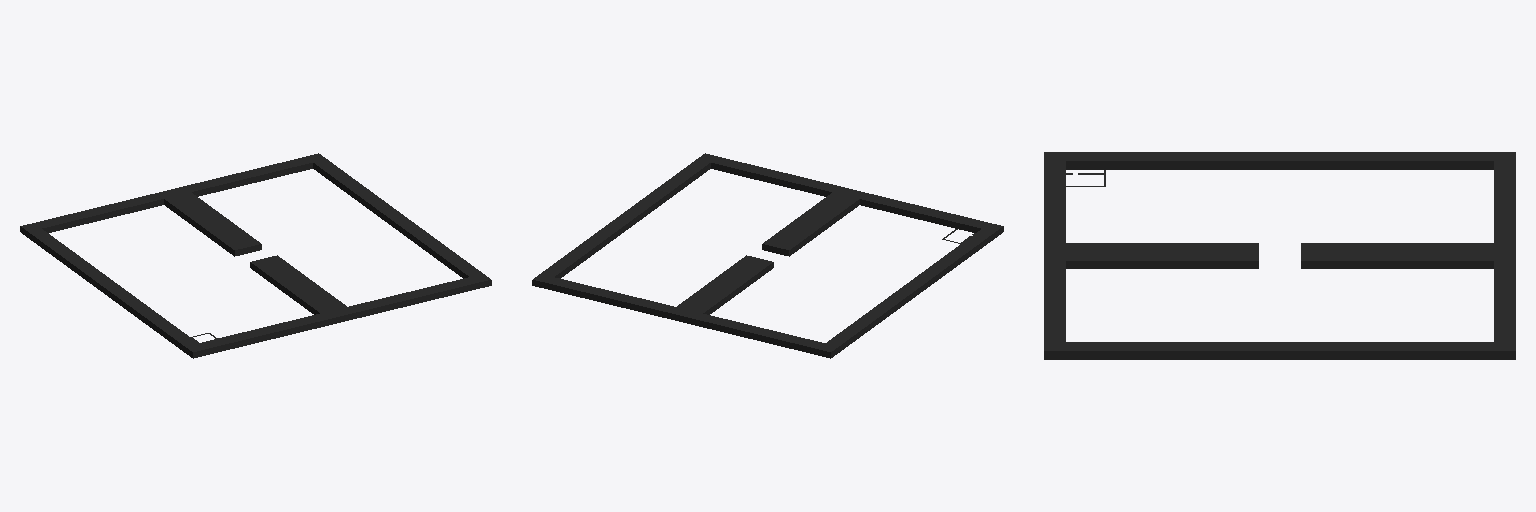
robot.urdf — Room48:
<robot name="Room48">
    <link name="_name">
        <visual> 
            <origin rpy="0.0 0.0 0.0" xyz="-0.5015630672286577 -0.49859191714983775 -0.010000000000000004" />
                <geometry>
                    <mesh filename="Room48/Room48.obj" scale="1 1 0.1" />
                </geometry>

            <material name="black">
                <color rgba="0.2 0.2 0.2 0.95" />
            </material>
        </visual>

       <collision concave="yes" name="collision_0">
            <origin rpy="0.0 0.0 0.0" xyz="-0.5015630672286577 -0.49859191714983775 -0.010000000000000004" />
            <geometry>
                <mesh filename="Room48/Room48_vhacd.obj" scale="1 1 0.1" />
            </geometry>
        </collision>

        <inertial> 
            <mass value="0" />
            <inertia ixx="0" ixy="0" ixz="0" iyy="0" iyz="0" izz="0" />
        </inertial> 
    </link>
</robot>

--- Facts derived from the render (not from the file) ---
Views: 3 orthographic renders of the robot side by side, from view 1: azimuth 30°, elevation 25°; view 2: azimuth 150°, elevation 25°; view 3: azimuth 270°, elevation 25°.
Model Room48 with 1 links and 0 joints (none), rooted at _name, posed every joint at zero.
Links seen in each view (by area): view 1: _name; view 2: _name; view 3: _name.
Boxes of the visible links, box(x1,y1,x2,y2) form: _name: box(20, 153, 491, 358); _name: box(532, 153, 1003, 358); _name: box(1044, 152, 1515, 359).
Bounding box of the posed robot: 1 × 1 × 0.02 m (x, y, z).
1 mesh visuals loaded from 1 distinct referenced files (1 OBJ).